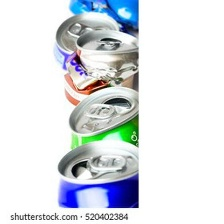can: (57, 26, 142, 107), (48, 137, 140, 208), (59, 84, 142, 149), (44, 10, 124, 71), (65, 0, 151, 32)
